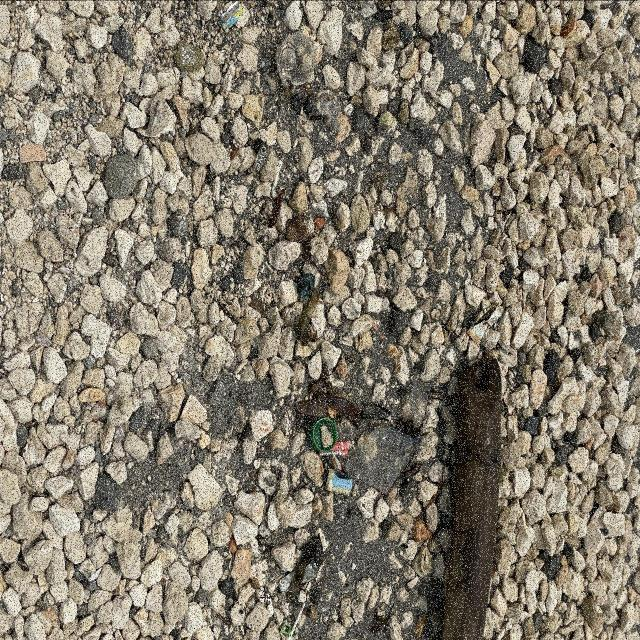plastic_waste: (311, 417, 339, 452)
